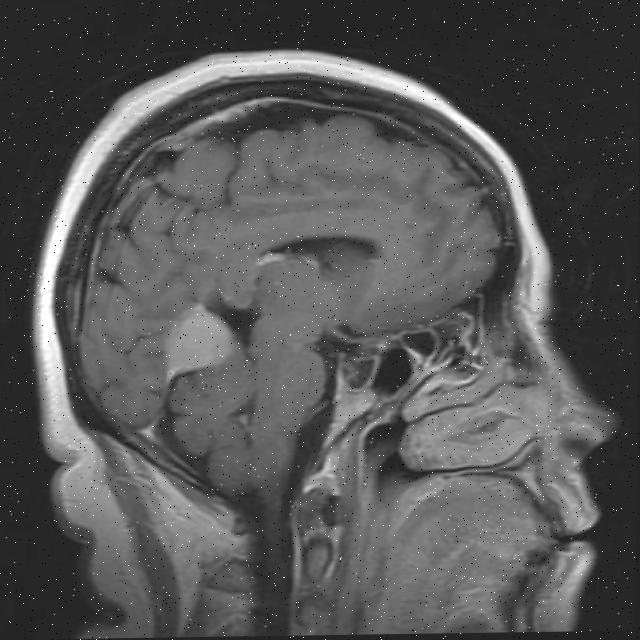Meningioma: (163, 303, 237, 376)
